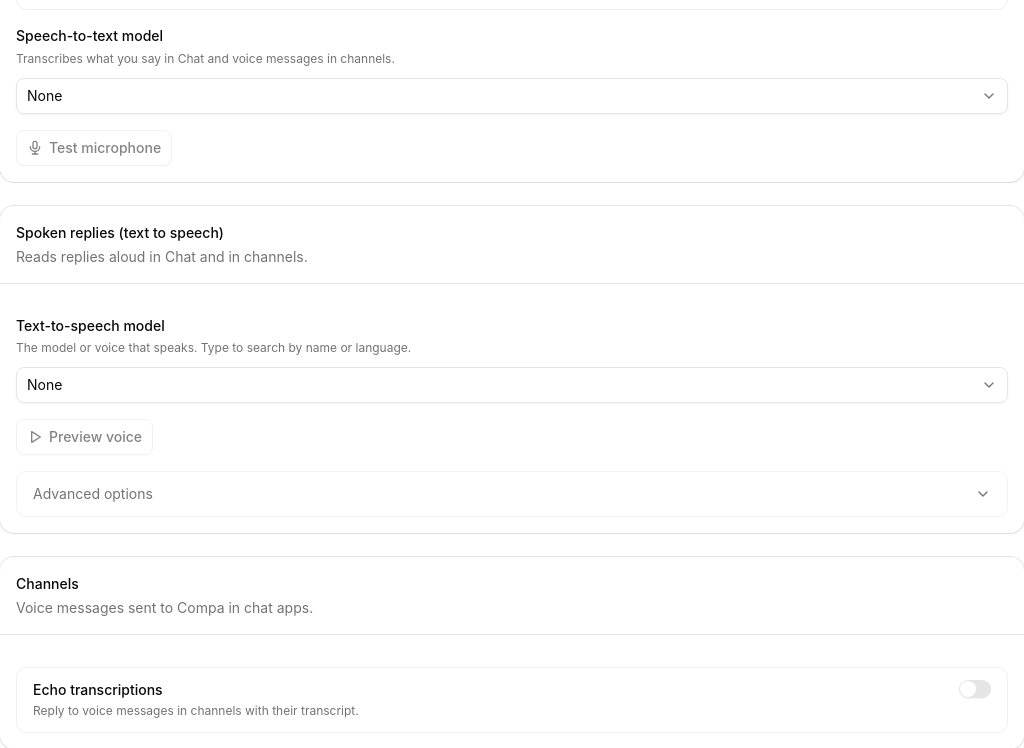
Test: VoiceSettings › groups voices by language, names their provider and filters as you type
The image size is (1024, 748).
(page scrolled)
Click the dropdown named "Text-to-speech model": (45, 384) top-left (16, 367), bottom-right (1008, 403)
(page scrolled)
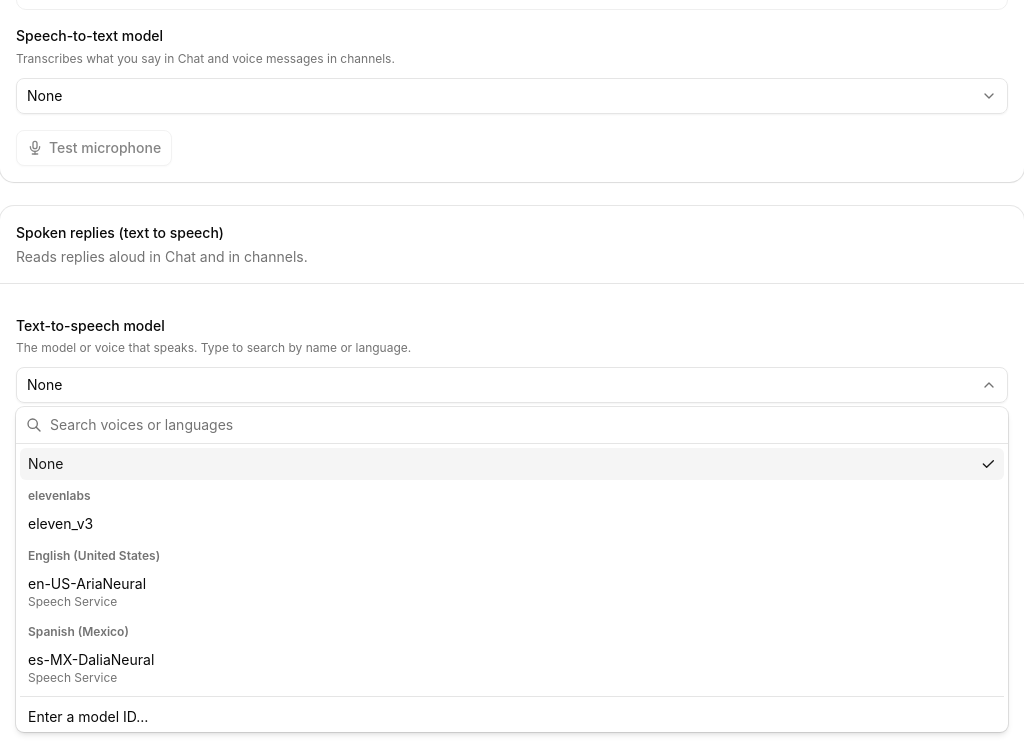
Expected: the element "Spanish (Mexico) es-MX-DaliaNeural Speech Service" does not show "extension", top-left (28, 624), bottom-right (154, 685)
Now the element "Spanish (Mexico) es-MX-DaliaNeural Speech Service" is shown, box top-left (28, 624), bottom-right (154, 685)
In the search field labelled "Search voices or languages": (524, 425) top-left (50, 407), bottom-right (998, 443), type "spanish"
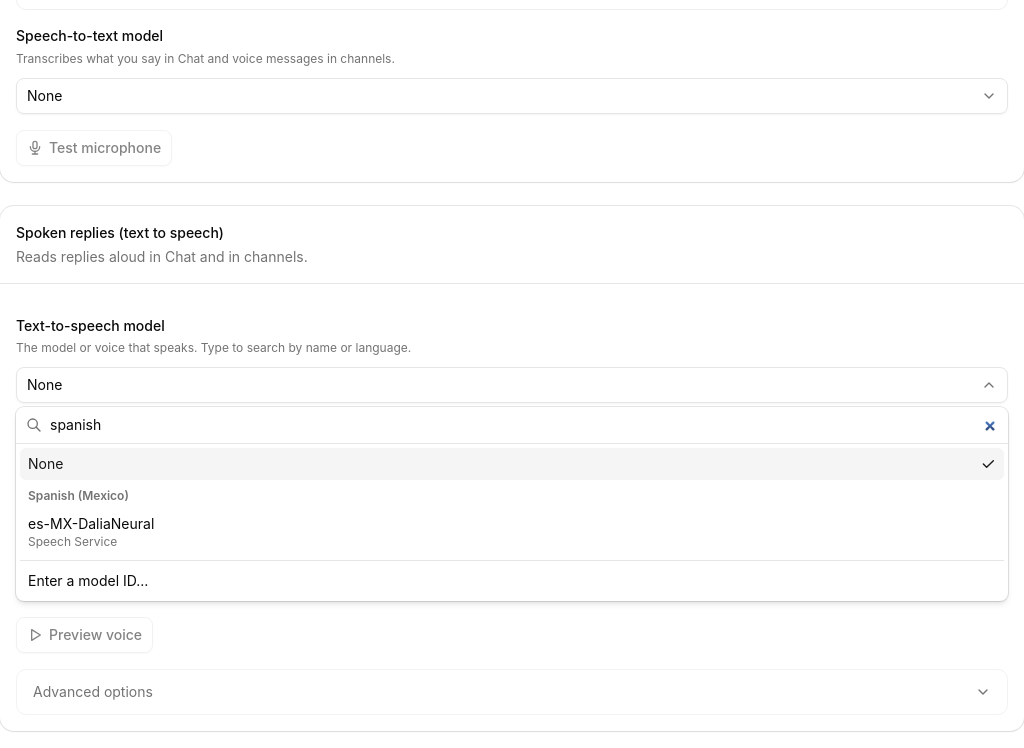
Now the option "es-MX-DaliaNeural Speech Service" is shown, box top-left (28, 515), bottom-right (154, 549)
Now the option "en-US-AriaNeural" is gone
Now the option "eleven_v3" is gone
